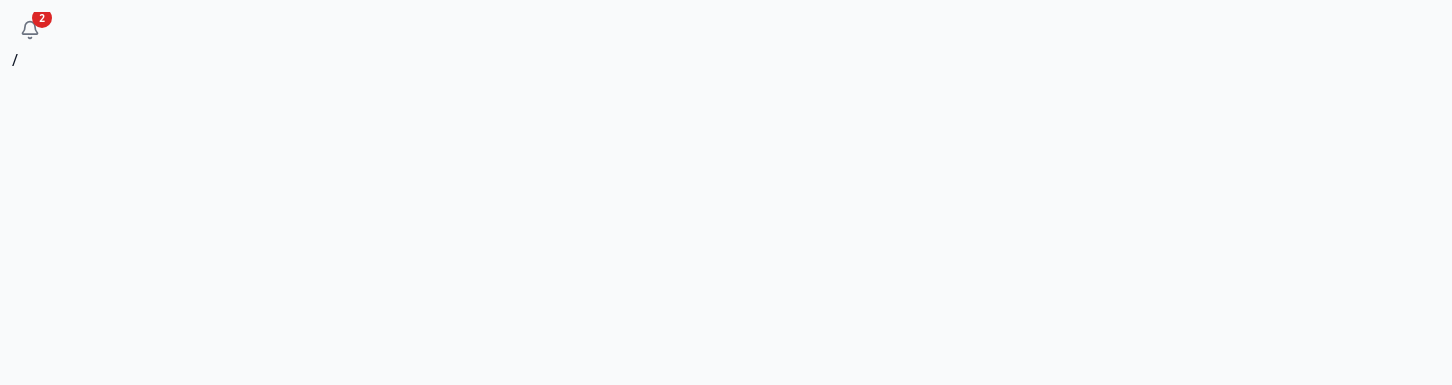
Test case: NotificationBell › navigates to the selected ticket and closes the panel
Click the button named "Notifications, 2 active alerts" at (30, 30), box top-left (12, 12), bottom-right (48, 48)
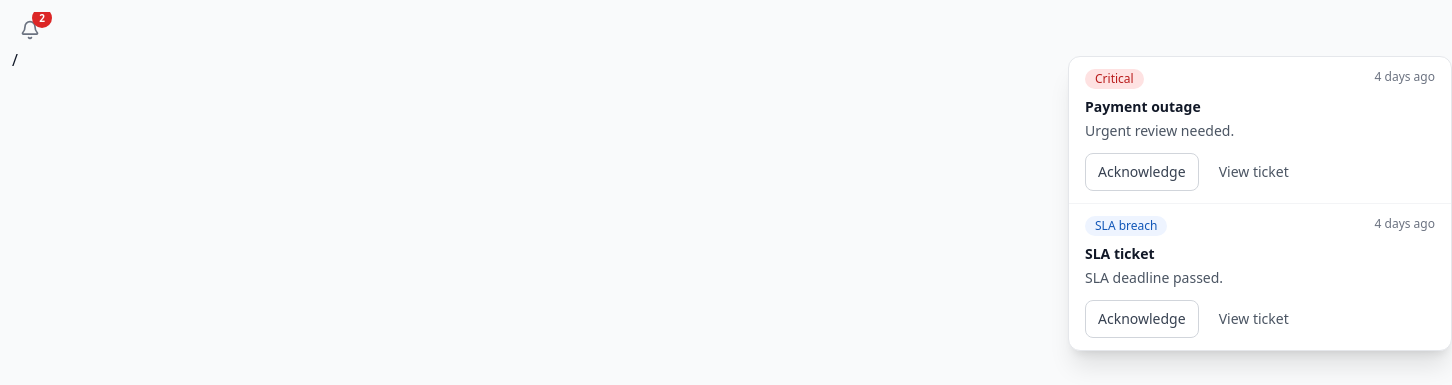
Click the button "View ticket" below "Urgent review needed." at (1254, 172), box top-left (1207, 153), bottom-right (1301, 191)
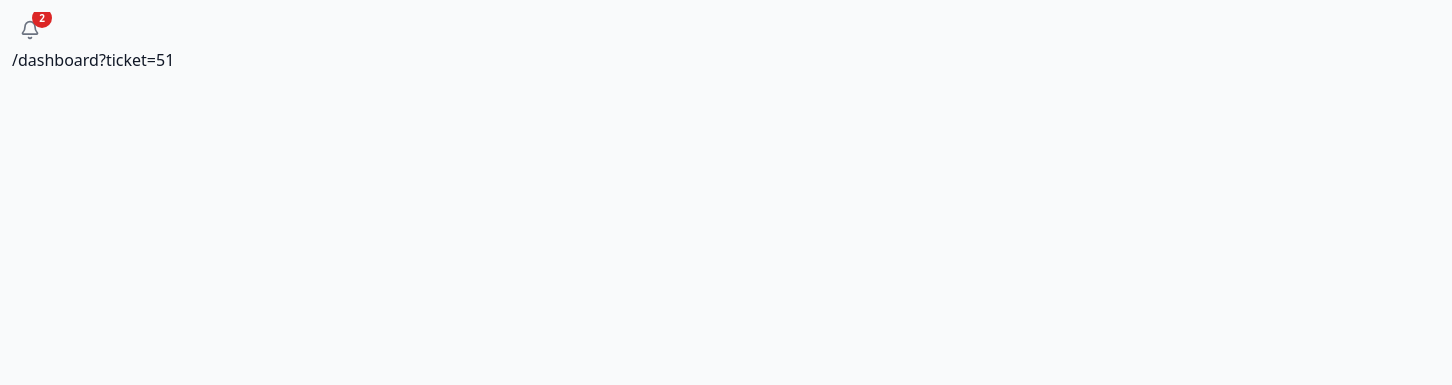
Now the text with test id "current-location" reads "/dashboard?ticket=51", box top-left (12, 49), bottom-right (174, 71)
